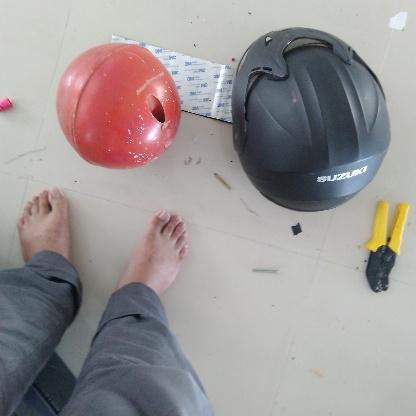red_buoy: (55, 39, 182, 171)
